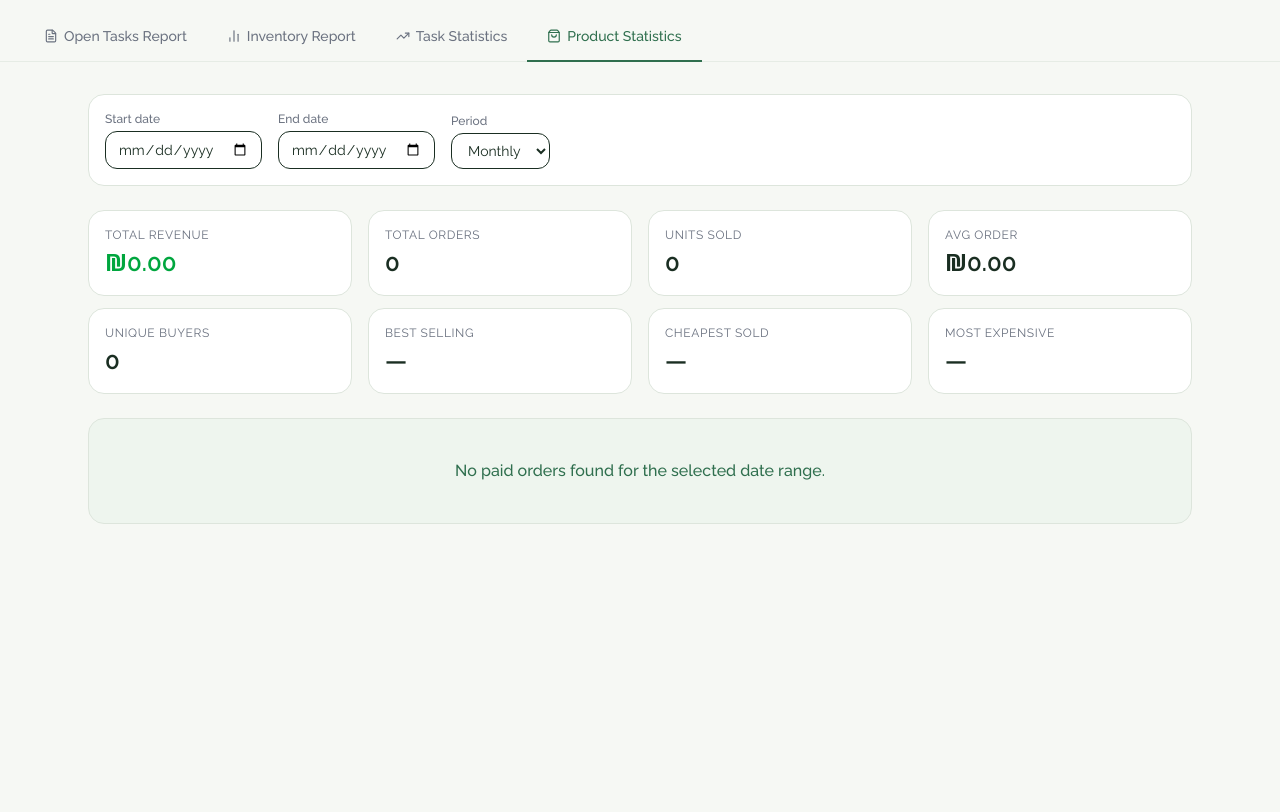
Test: Product Statistics Report tab › shows date validation error for invalid range
The width and height of the screenshot is (1280, 812).
Type "2026-07-01" into the date field with test id "prod-filter-start-date" at {"x": 184, "y": 150}, box [105,131,262,169]
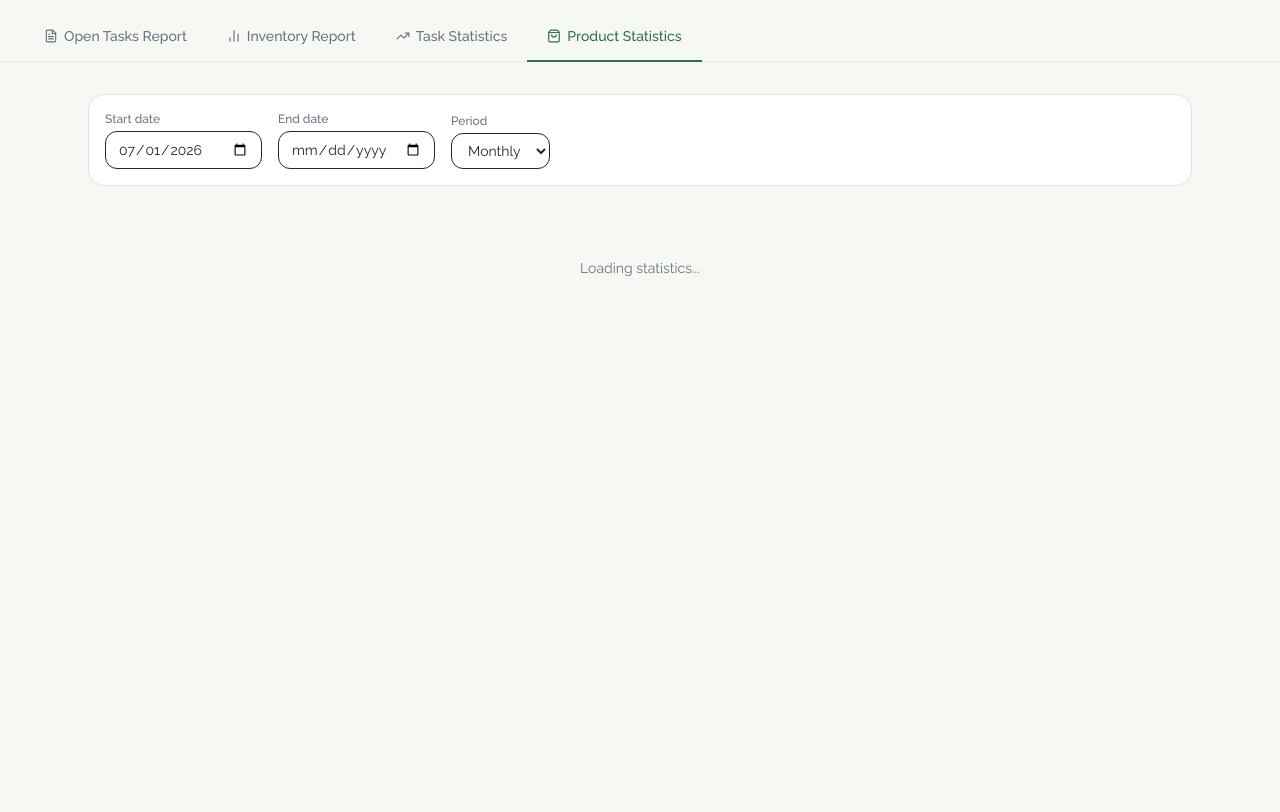
Type "2026-06-01" into the date field with test id "prod-filter-end-date" at {"x": 356, "y": 150}, box [278,131,435,169]
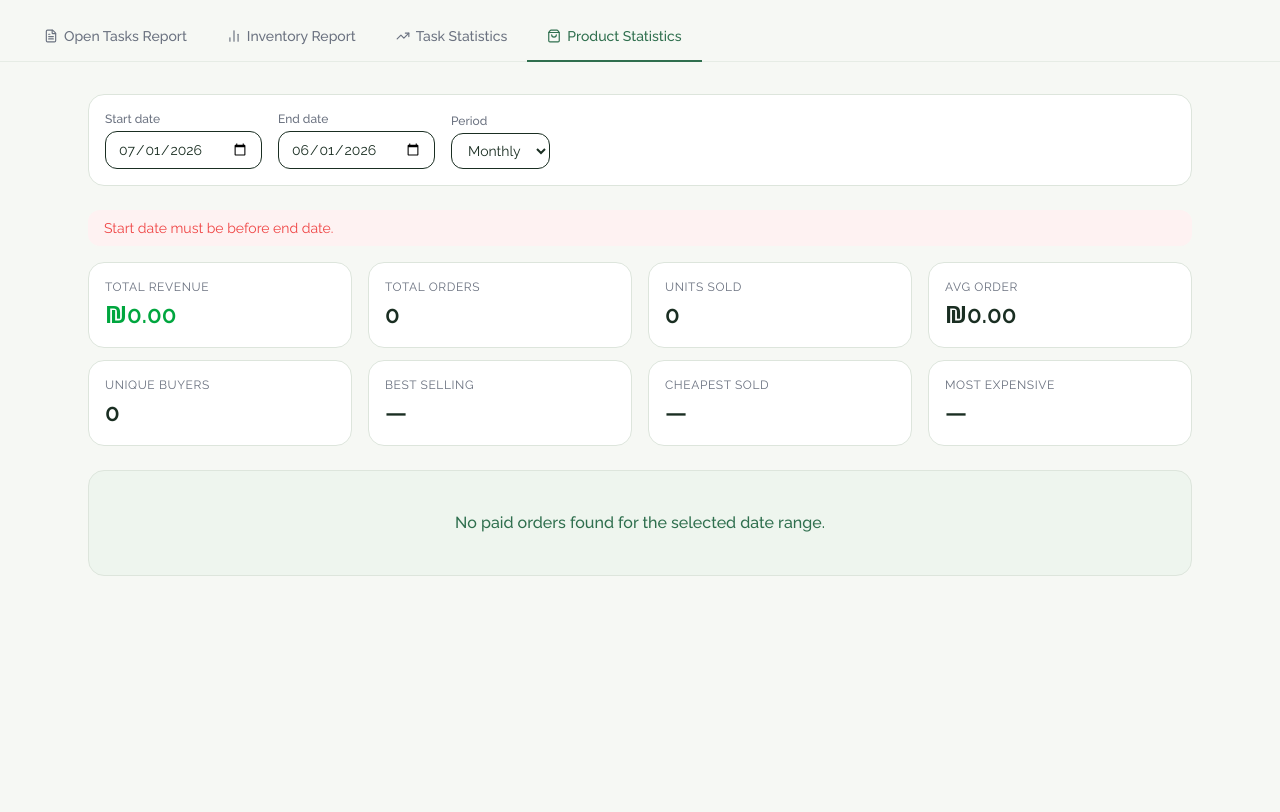
Now the text "Start date must be before end date." is shown, box [88,210,1192,246]
